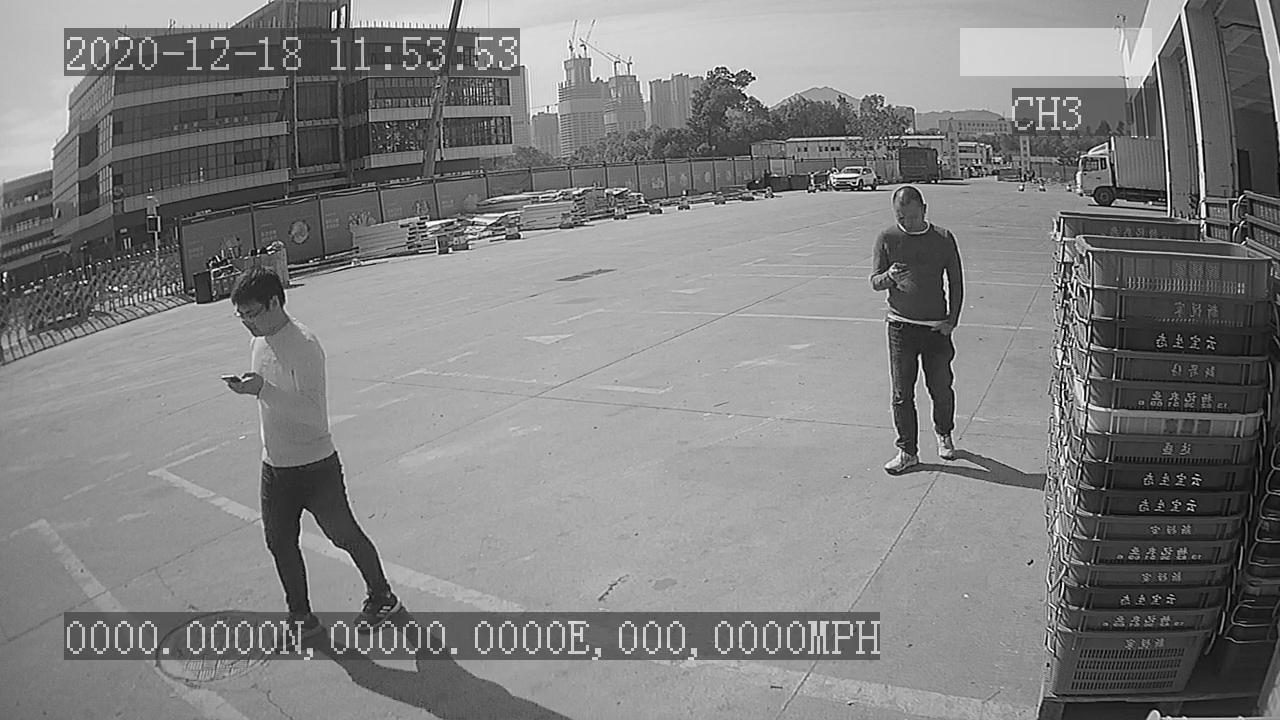person: (865, 186, 967, 479)
